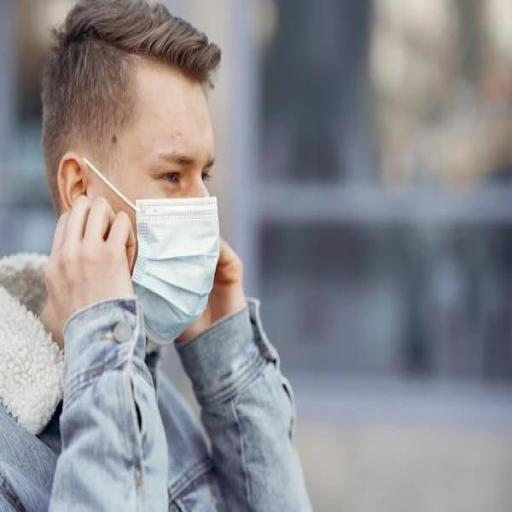mask: (54, 64, 246, 380)
